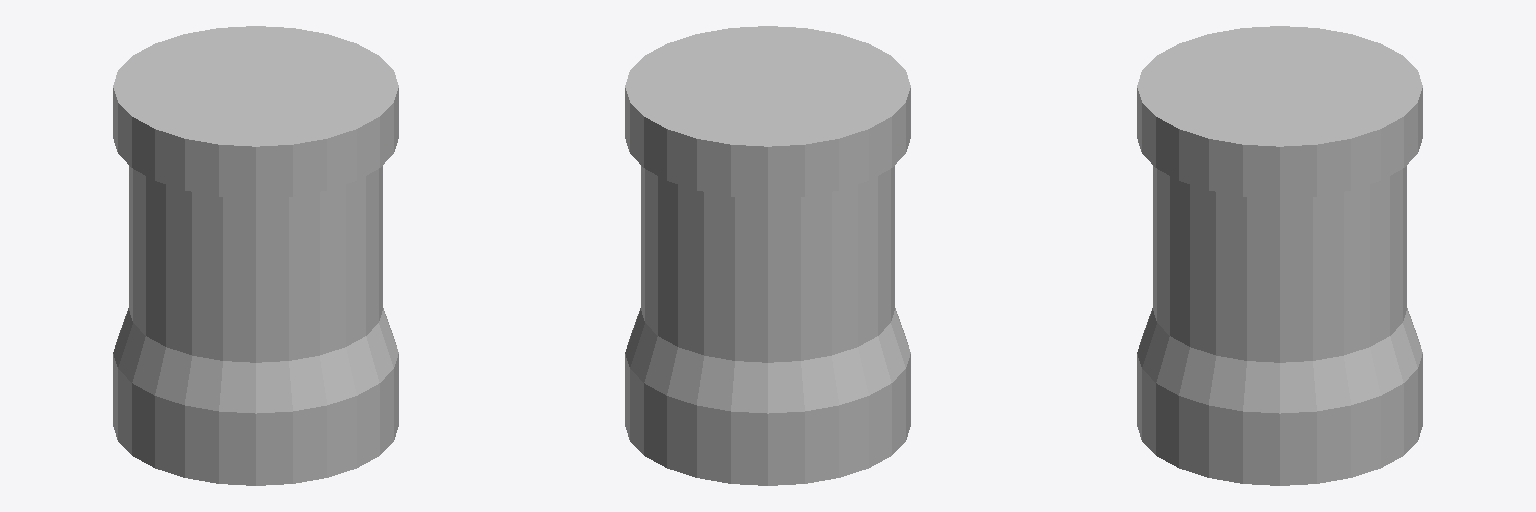
File: towerBase.obj
The picture shows the model from 3 angles: view 1: azimuth 30°, elevation 25°; view 2: azimuth 150°, elevation 25°; view 3: azimuth 270°, elevation 25°; orthographic projection.
Visible parts, largest first — view 1: towerBase; view 2: towerBase; view 3: towerBase.
Boxes of the visible parts, x1=… form: towerBase: x1=113, y1=26, x2=398, y2=485; towerBase: x1=625, y1=26, x2=910, y2=485; towerBase: x1=1137, y1=26, x2=1422, y2=485.
Bounding box in the file's own units: 10 × 13.1 × 10.